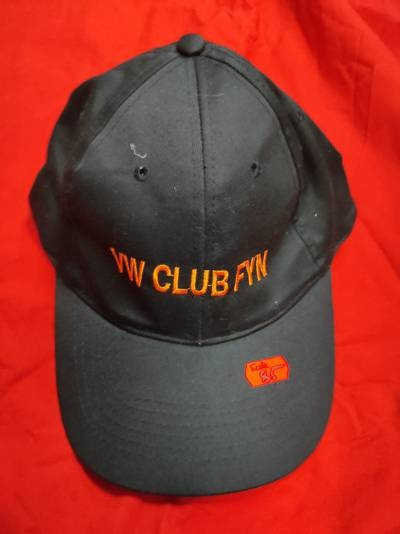Hat: (9, 18, 367, 508)
